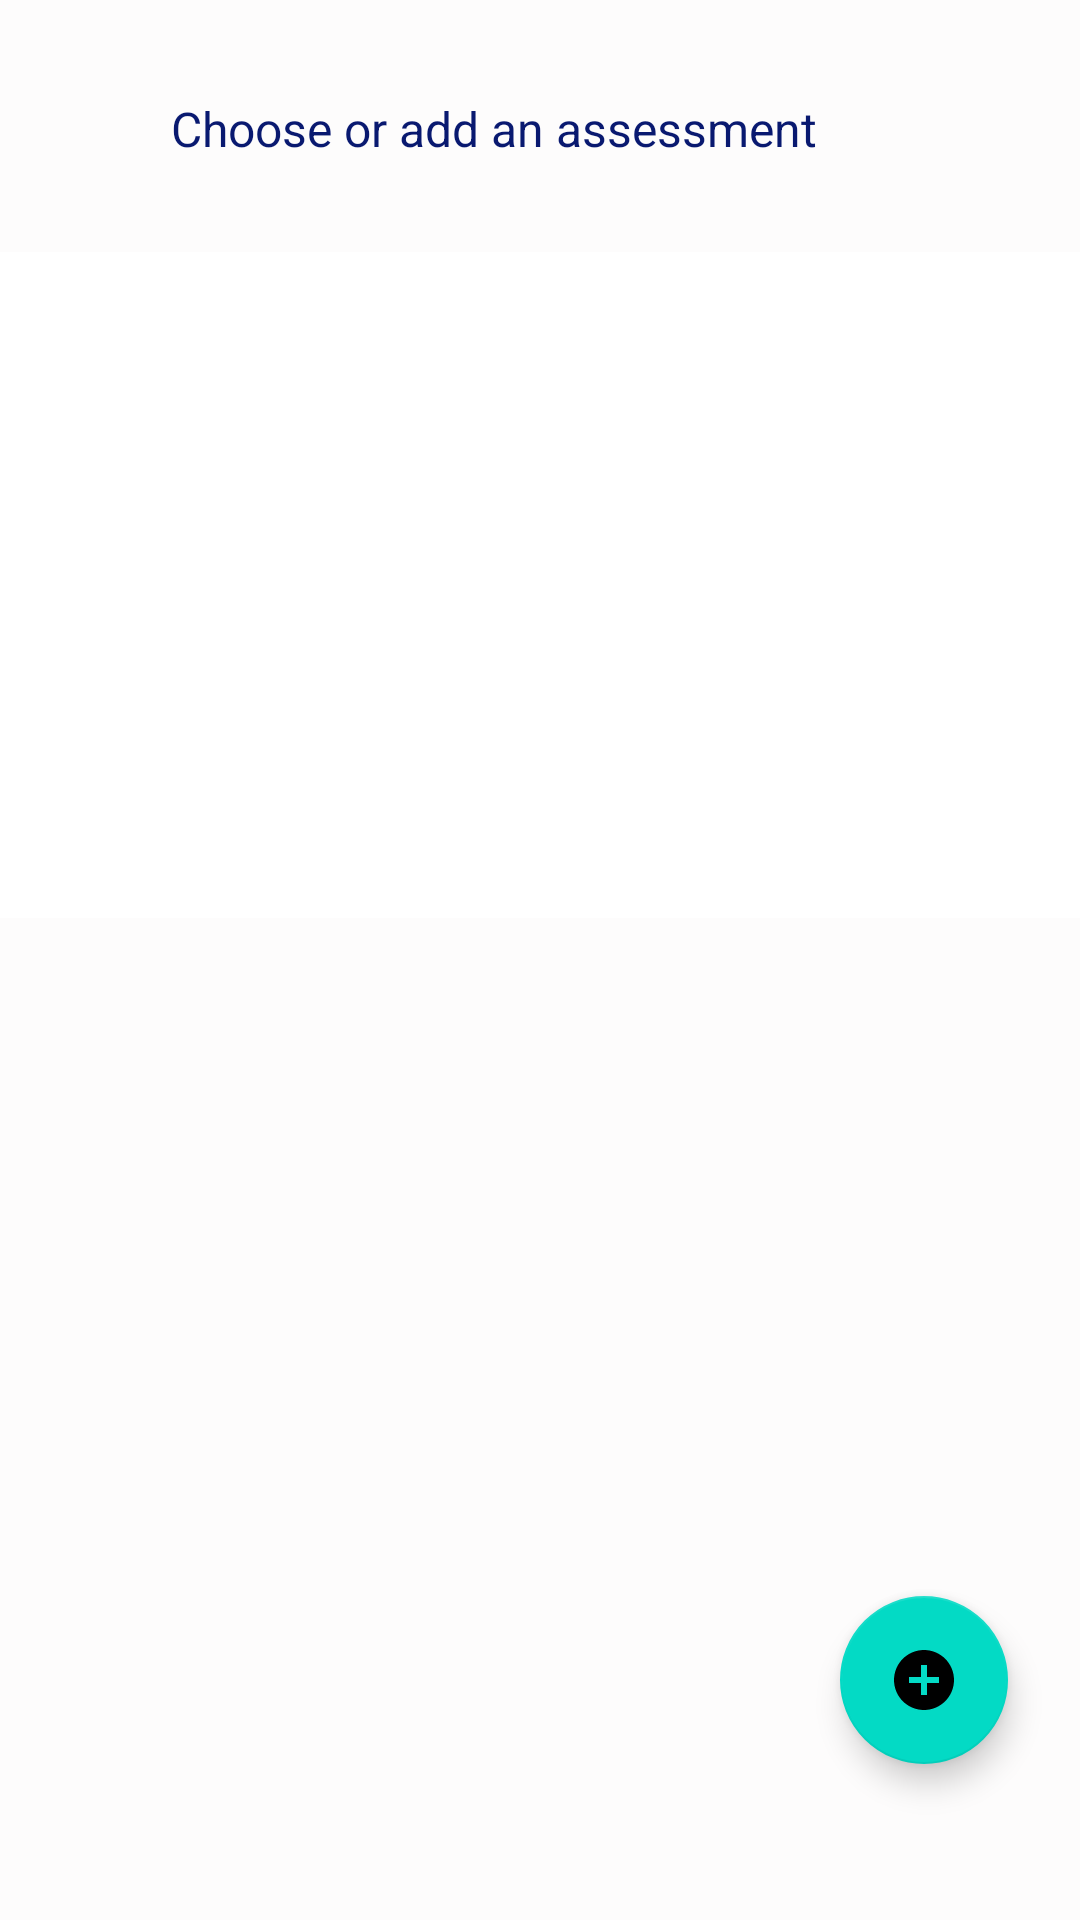

Locate icon controls on the screen. Image size 1080px×1920px, boxes as {"left": x1, "top": y1, "right": x2, "bottom": y2}.
add circle: {"left": 840, "top": 1596, "right": 1008, "bottom": 1764}
